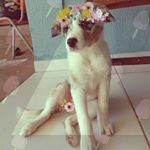puppy: (16, 3, 118, 150)
